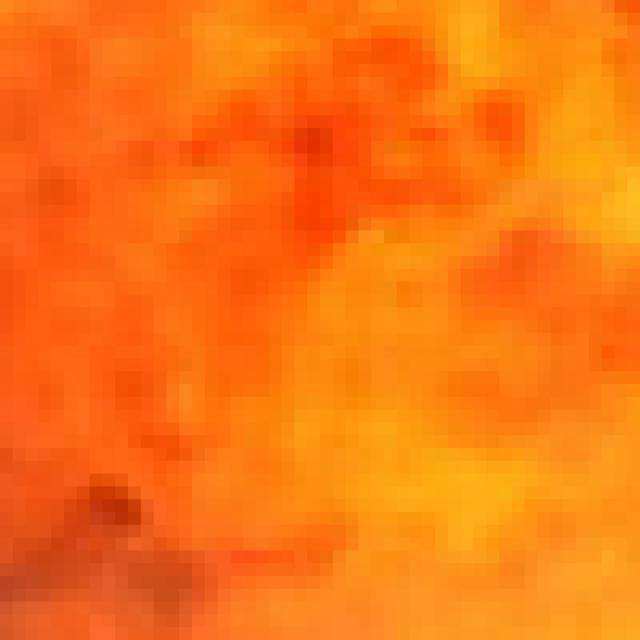fire: (4, 7, 640, 617)
